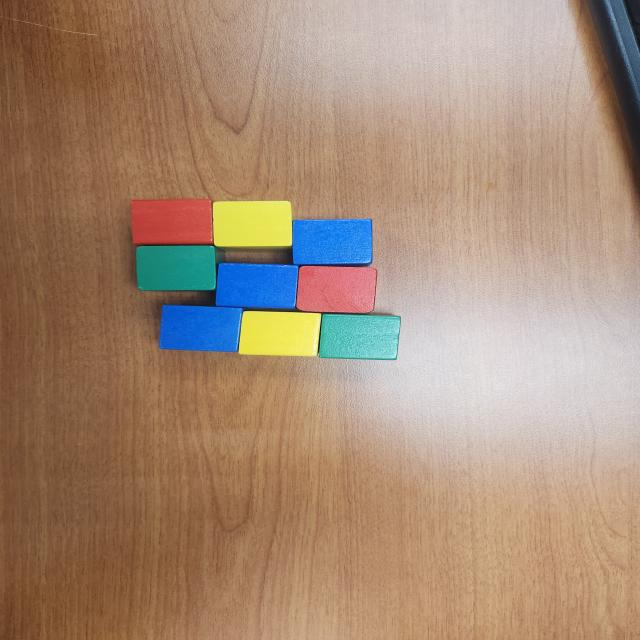blue: (159, 305, 245, 352), (215, 263, 298, 311), (292, 219, 374, 266)
green: (134, 243, 228, 292), (317, 314, 403, 362)
red: (296, 264, 376, 313), (130, 199, 215, 245)
yellow: (212, 200, 293, 246), (239, 311, 321, 356)
